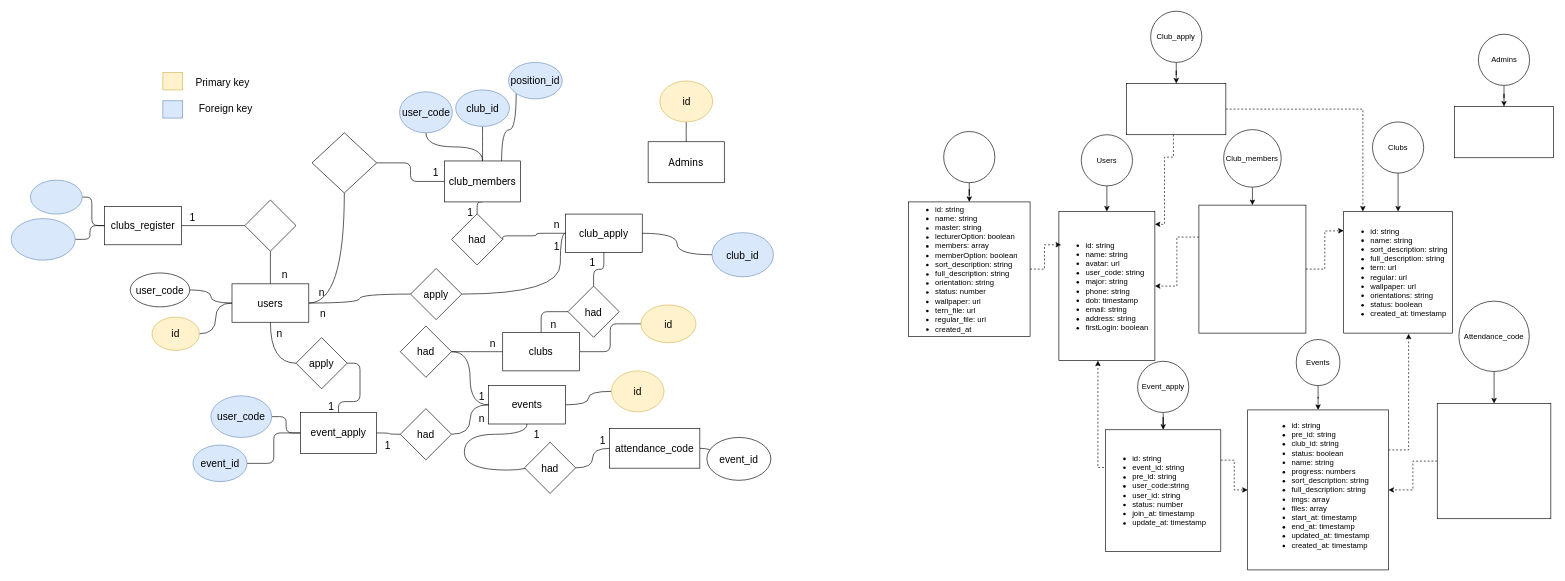
The diagram is 1565 pixels wide and 581 high, and some of its shapes have lost their labels. The shapes that lost their labels are listed below. From the top down, each one's box as (x1, y1, x2, y2) in pixels, then its label:
(1126, 83, 1226, 135): id: string user_id: string club_id : string date: timestamp
(1454, 106, 1554, 158): id: string name: string email : string rule: string
(311, 132, 377, 193): is_member
(943, 131, 995, 183): Club_register
(30, 180, 82, 214): user_id
(11, 218, 75, 260): lecturer
(244, 199, 296, 251): register
(1198, 204, 1306, 333): id: string club_id: string user_code: string position_id: number
(1437, 403, 1551, 519): id:string event_id: string code: string created_at: timestamp end_at: timestamp
